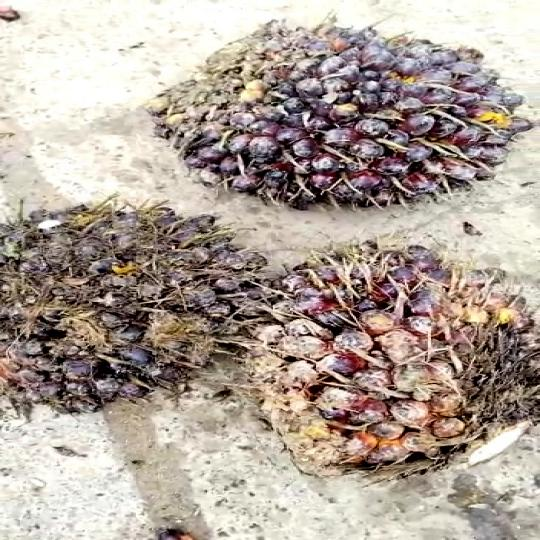kurang masak: (242, 235, 538, 485), (161, 17, 538, 186), (0, 184, 264, 424)
